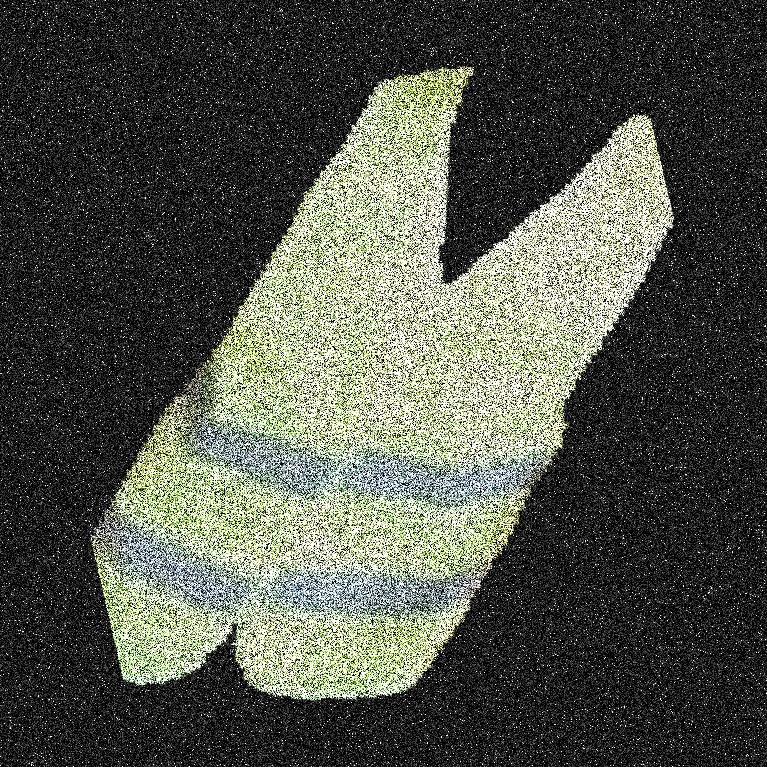Colete: (253, 0, 572, 766)
